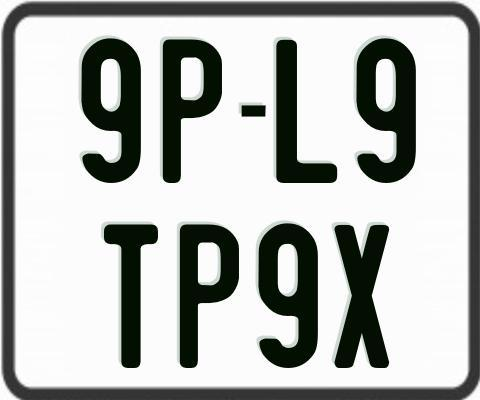9: (256, 222, 320, 373), (355, 38, 421, 183), (78, 38, 138, 189)
L: (275, 40, 337, 189)
P: (178, 222, 238, 370), (161, 36, 221, 183)
T: (102, 224, 159, 369)
X: (333, 222, 391, 370)
